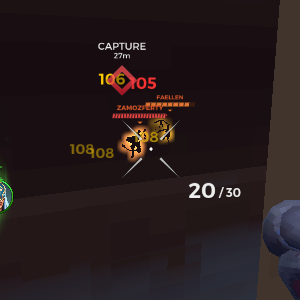model: (123, 127, 143, 159), (162, 122, 174, 144)
